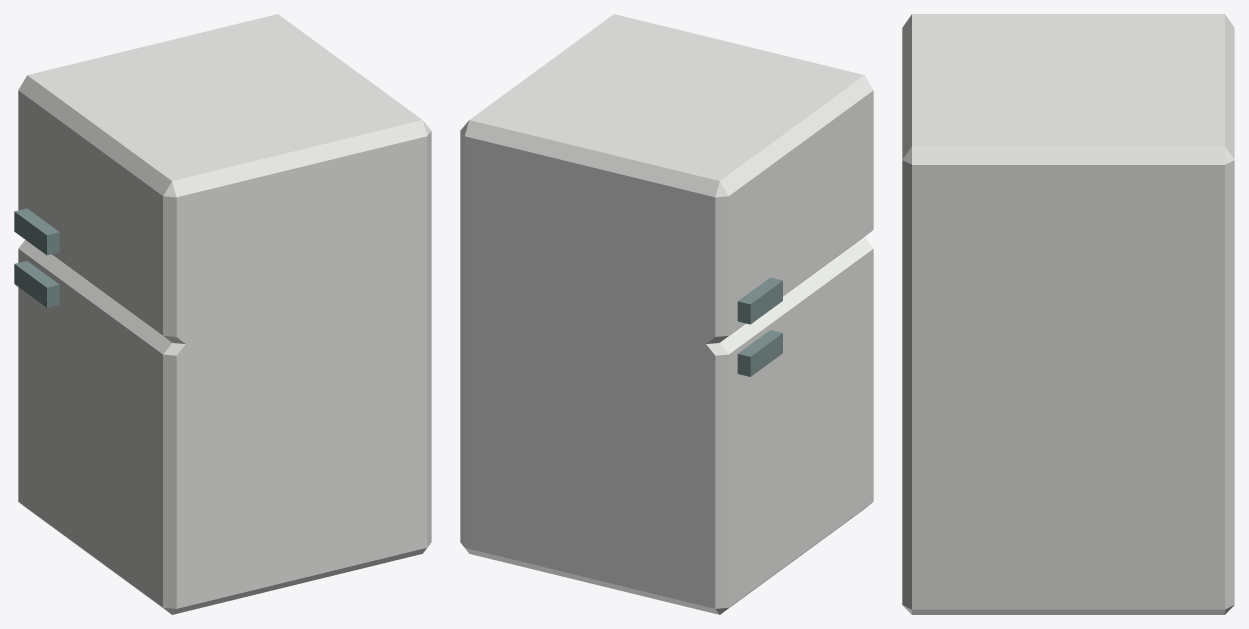
The model's file is Fridge.fbx.
The picture shows the model from 3 angles, left to right: view 1: azimuth 30°, elevation 25°; view 2: azimuth 150°, elevation 25°; view 3: azimuth 270°, elevation 25°; orthographic projection. The views are drawn at different scales.
Parts seen in each view (by area): view 1: Fridge; view 2: Fridge; view 3: Fridge.
Boxes of the visible parts, x1=… form: Fridge: x1=14, y1=14, x2=431, y2=614; Fridge: x1=460, y1=14, x2=873, y2=614; Fridge: x1=902, y1=14, x2=1234, y2=614.
Bounding box in the file's own units: 1.69 × 1.6 × 2.49.
